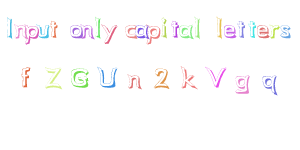2: (150, 67, 175, 92)
G: (67, 67, 94, 90)
I: (3, 14, 15, 42)
U: (96, 64, 122, 93)
V: (202, 62, 227, 91)
Z: (40, 64, 63, 91)
a: (179, 23, 194, 41), (136, 21, 148, 42)
c: (125, 22, 136, 42)
e: (223, 21, 237, 40), (257, 22, 270, 41)
f: (16, 64, 35, 91)
g: (230, 69, 253, 97)
i: (159, 16, 170, 43)
k: (178, 64, 201, 93)
l: (214, 14, 225, 44), (93, 14, 103, 41), (194, 14, 203, 41)
n: (123, 70, 143, 91), (81, 21, 95, 42), (14, 21, 26, 41)
o: (67, 21, 83, 41)
p: (25, 21, 40, 47), (147, 23, 161, 44)
q: (259, 71, 283, 98)
r: (268, 20, 279, 42)
s: (280, 23, 293, 41)
t: (49, 13, 60, 42), (247, 18, 258, 40), (169, 20, 180, 39), (237, 19, 246, 40)
u: (37, 20, 50, 43)
y: (101, 21, 118, 46)
